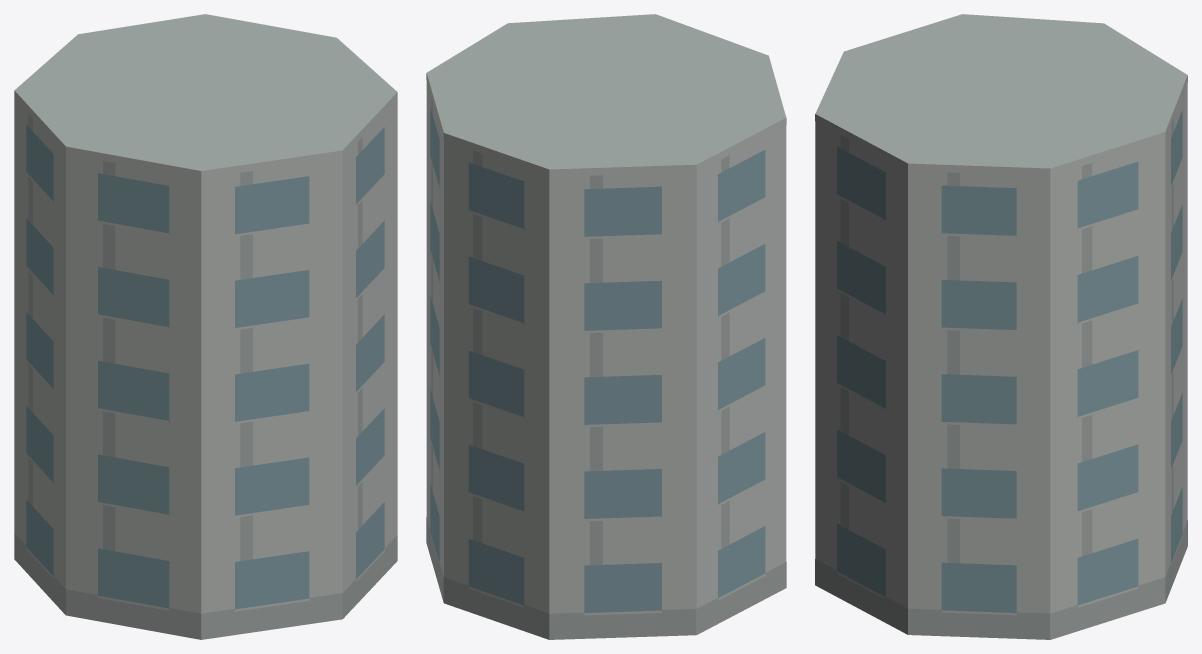
The model's file is survey-upis-32729721.glb.
The picture shows the model from 3 angles, left to right: view 1: azimuth 30°, elevation 25°; view 2: azimuth 150°, elevation 25°; view 3: azimuth 270°, elevation 25°; orthographic projection.
Visible parts, largest first — view 1: survey-upis-32729721.tmp; view 2: survey-upis-32729721.tmp; view 3: survey-upis-32729721.tmp.
Boxes of the visible parts, x1,y1,x2,y2 form: survey-upis-32729721.tmp: (14,14,397,639); survey-upis-32729721.tmp: (426,14,786,639); survey-upis-32729721.tmp: (815,14,1187,639).
Size of the model in its own units: 10.73 by 15.25 by 10.93.
